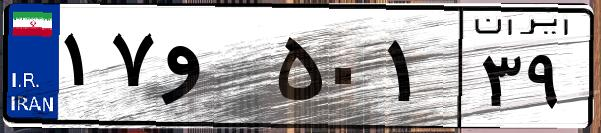0: (330, 28, 385, 110)
1: (385, 28, 445, 110), (57, 26, 110, 100)
3: (475, 38, 525, 113)
5: (270, 28, 330, 110)
7: (110, 28, 158, 98)
9: (525, 38, 570, 115)
و: (158, 20, 270, 120)
